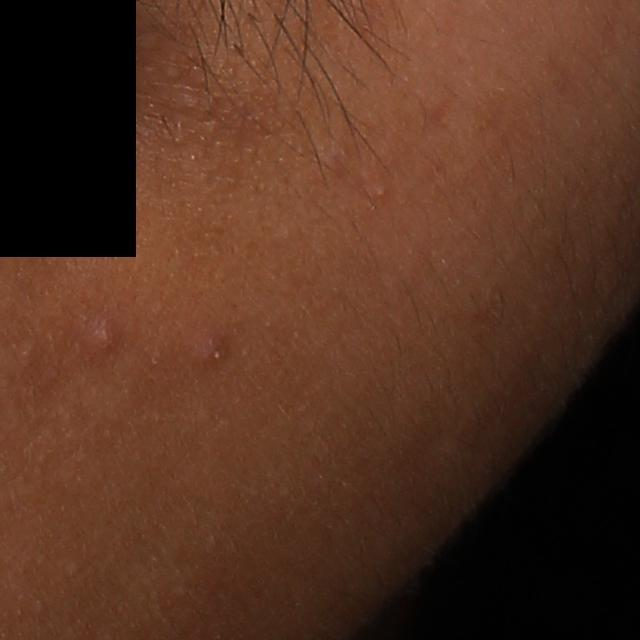comedo: (372, 186, 389, 199)
papule: (86, 313, 123, 358), (196, 335, 233, 371)
